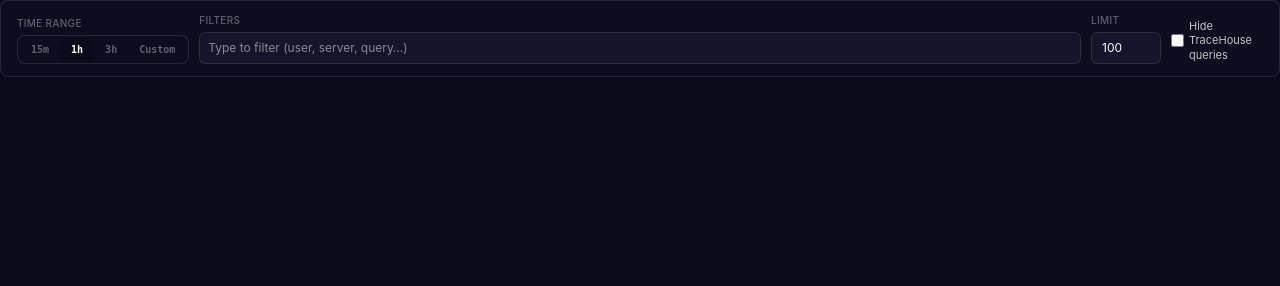
Test: filter bar multi-value autocomplete › offers error codes on demand after applying the Failed queries quick filter
Focus the field with placeholder "Type to filter (user, server, query…)" at (640,48), box [208,37,1072,59]
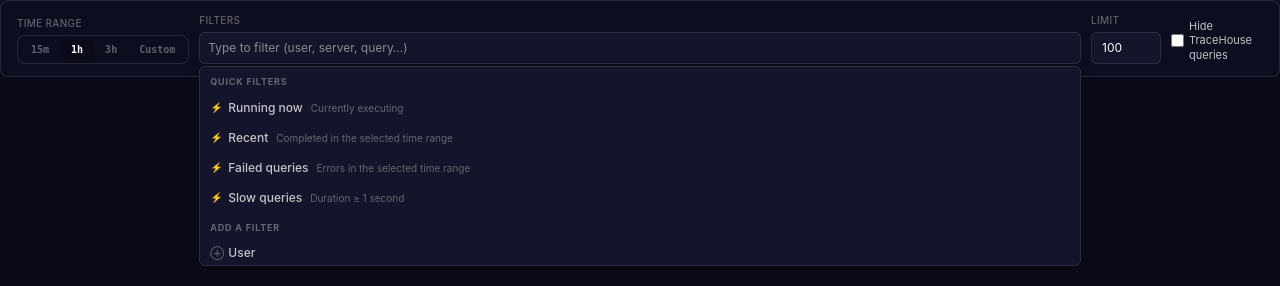
Press the mouse on the text "Failed queries" at (268,167), box [228,160,309,174]
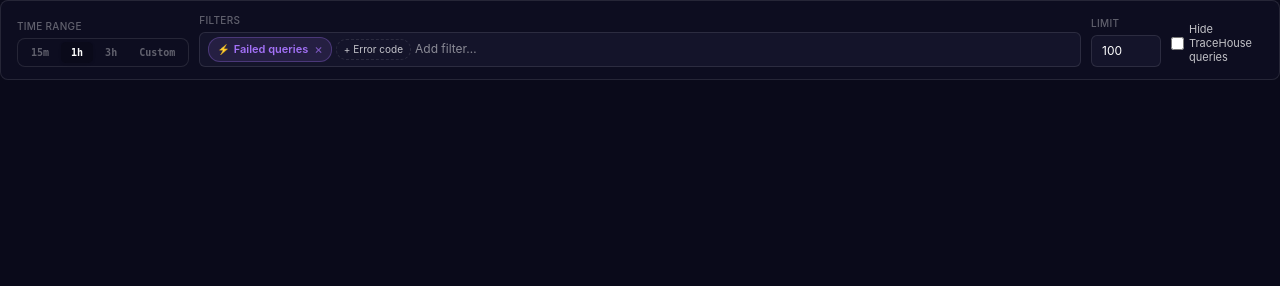
Check: the text "Error codes in results · ⌘/Ctrl-click for multiple" is not shown
Check: the field with placeholder "Add filter…" is shown, box [415,38,1072,60]
Press the mouse on the button "+ Error code" at (373,49), box [336,39,411,60]
Click the button "+ Error code" at (373,49), box [336,39,411,60]
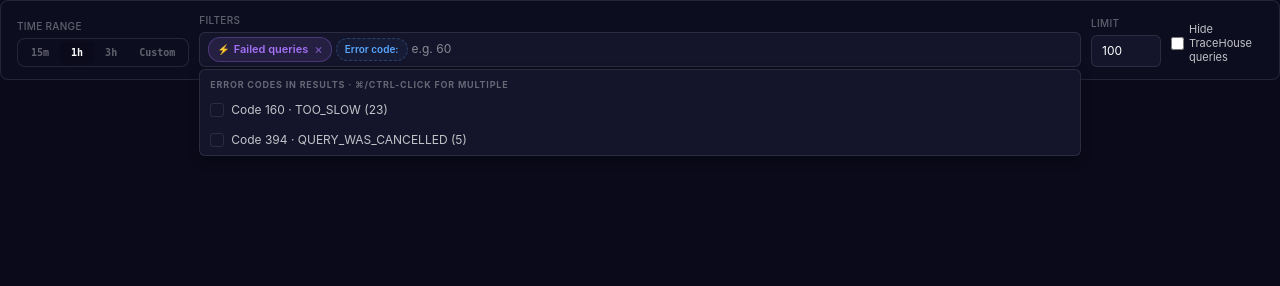
Check: the text "Error codes in results · ⌘/Ctrl-click for multiple" is shown, box [210,78,508,90]
Check: the text "Code 160 · TOO_SLOW (23)" is shown
Press the mouse on the text "Code 160 · TOO_SLOW (23)" at (310,110), box [231,101,388,119]
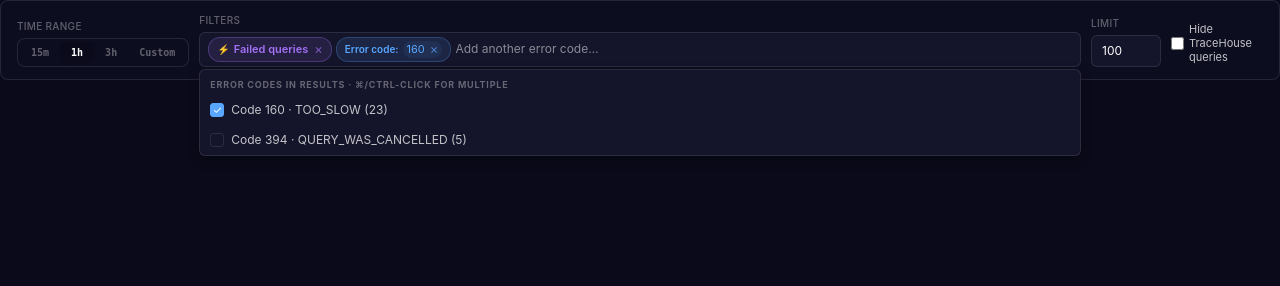
Check: the text "Failed queries" is shown, box [234,41,308,58]
Check: the button named "Remove Error code 160" is shown, box [430,43,438,56]
Check: the field with placeholder "Add another error code…" is shown, box [455,38,1072,60]
Press the mouse on the text "Code 394 · QUERY_WAS_CANCELLED (5)" at (349,140), box [231,131,467,149]
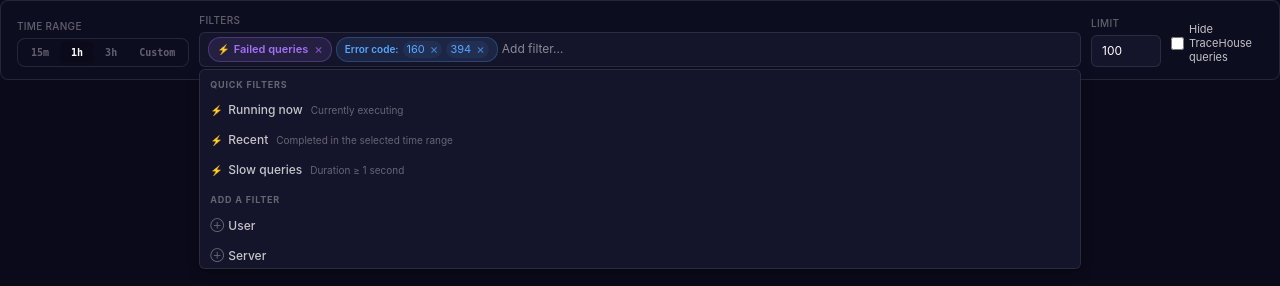
Check: the button named "Remove Error code 160" is shown, box [430,43,438,56]
Check: the button named "Remove Error code 394" is shown, box [476,43,485,56]
Check: the field with placeholder "Add filter…" is shown, box [502,38,1072,60]
